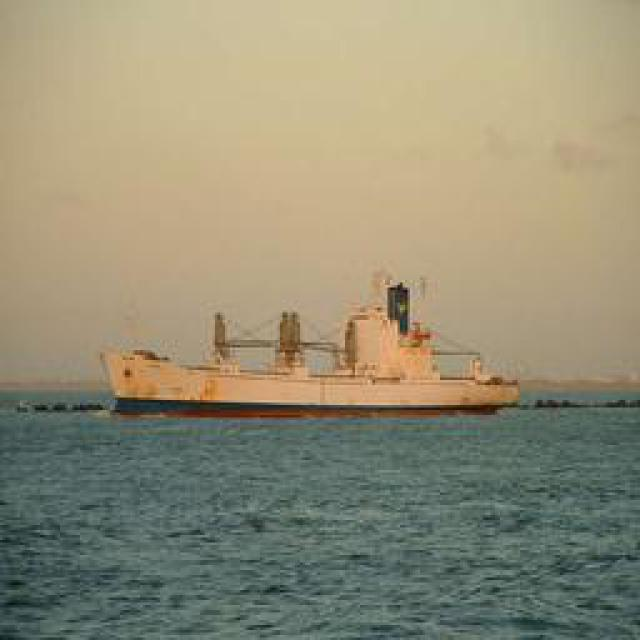Ship: (93, 288, 529, 418)
